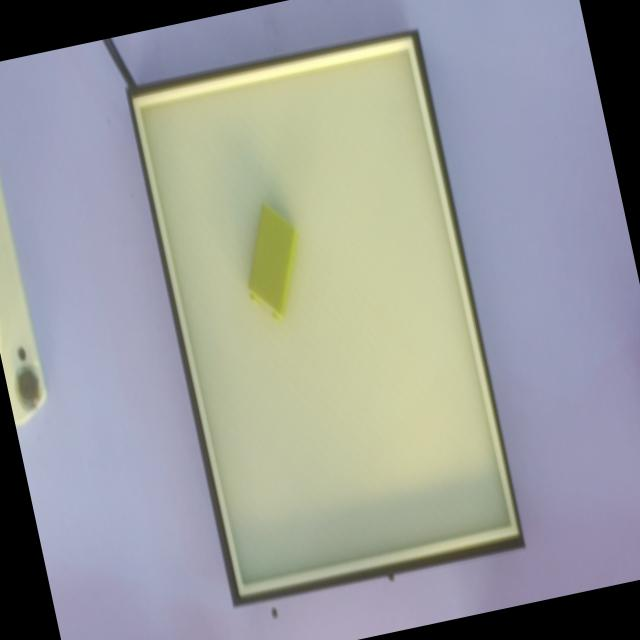bateria: (248, 201, 299, 323)
mesa: (125, 29, 526, 607)
